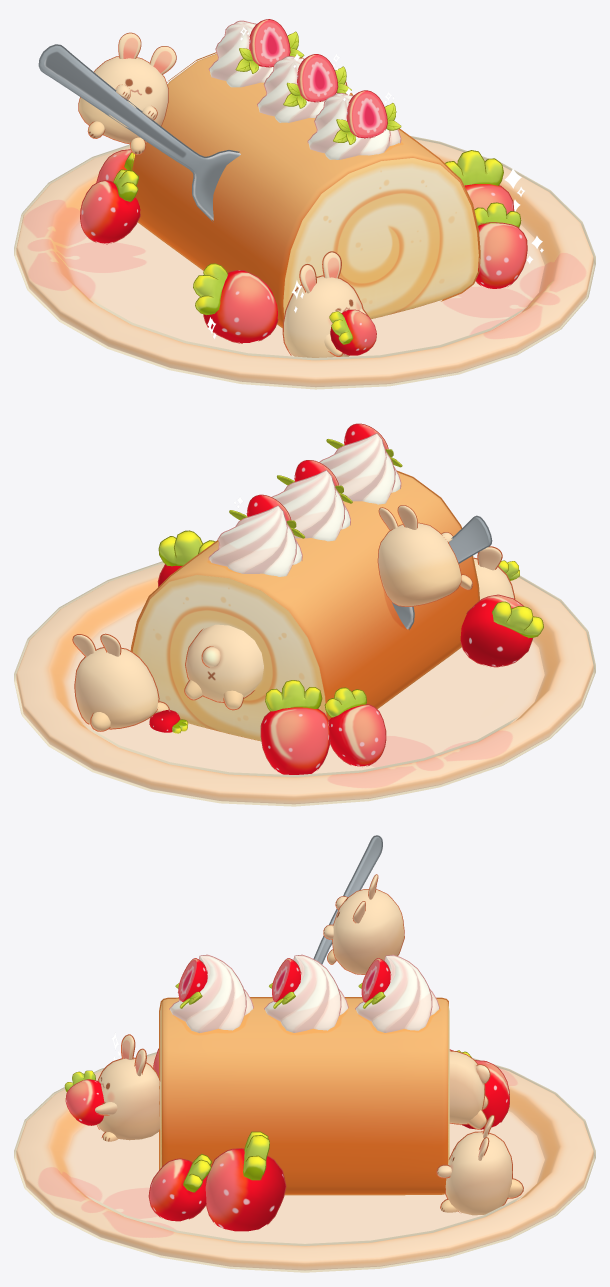
3 renders of one model, top to bottom at view 1: azimuth 30°, elevation 25°; view 2: azimuth 150°, elevation 25°; view 3: azimuth 270°, elevation 25°, orthographic. The views are drawn at different scales.
Visible parts, largest first — view 1: Plate, Roll_cake, Spoon, Bony.012, Bony.010, Berry.013, Berry, Berry.014, Meringue, Berry.001, Meringue.001, Meringue.002 (+5 smaller); view 2: Plate, Roll_cake, Bony.006, Bony.012, Berry.015, Bony.011, Berry.013, Meringue.002, Berry.014, Meringue, Meringue.001, Spoon (+6 smaller); view 3: Plate, Roll_cake, Berry.001, Bony.006, Bony.012, Bony.010, Meringue.002, Meringue.001, Meringue, Berry, Bony.011, Berry.012 (+5 smaller).
Boxes of the visible parts, x1=… form: Plate: x1=14, y1=136, x2=595, y2=389; Roll_cake: x1=131, y1=52, x2=480, y2=327; Spoon: x1=38, y1=44, x2=240, y2=222; Bony.012: x1=78, y1=32, x2=176, y2=154; Bony.010: x1=282, y1=251, x2=370, y2=357; Berry.013: x1=193, y1=263, x2=278, y2=343; Berry: x1=474, y1=202, x2=527, y2=288; Berry.014: x1=80, y1=169, x2=140, y2=244; Meringue: x1=307, y1=93, x2=401, y2=159; Berry.001: x1=445, y1=150, x2=514, y2=213; Meringue.001: x1=257, y1=56, x2=346, y2=122; Meringue.002: x1=208, y1=20, x2=273, y2=87; Plate: x1=14, y1=561, x2=595, y2=806; Roll_cake: x1=130, y1=470, x2=479, y2=741; Bony.006: x1=72, y1=633, x2=169, y2=731; Bony.012: x1=377, y1=505, x2=472, y2=606; Berry.015: x1=260, y1=680, x2=330, y2=774; Bony.011: x1=184, y1=624, x2=263, y2=710; Berry.013: x1=460, y1=594, x2=543, y2=667; Meringue.002: x1=208, y1=505, x2=302, y2=576; Berry.014: x1=324, y1=687, x2=386, y2=766; Meringue: x1=319, y1=433, x2=401, y2=504; Meringue.001: x1=272, y1=469, x2=350, y2=541; Spoon: x1=392, y1=515, x2=492, y2=629; Plate: x1=14, y1=1052, x2=595, y2=1272; Roll_cake: x1=159, y1=997, x2=449, y2=1195; Berry.001: x1=205, y1=1131, x2=286, y2=1231; Bony.006: x1=436, y1=1115, x2=523, y2=1215; Bony.012: x1=323, y1=874, x2=404, y2=974; Bony.010: x1=95, y1=1034, x2=160, y2=1141; Meringue.002: x1=355, y1=954, x2=439, y2=1032; Meringue.001: x1=264, y1=954, x2=348, y2=1032; Meringue: x1=169, y1=954, x2=253, y2=1033; Berry: x1=148, y1=1154, x2=212, y2=1221; Bony.011: x1=449, y1=1050, x2=490, y2=1129; Berry.012: x1=64, y1=1070, x2=104, y2=1125.
Size of the model in its own units: 2.81 by 1.48 by 3.05.
Materials: 3 (3 with a texture image).
